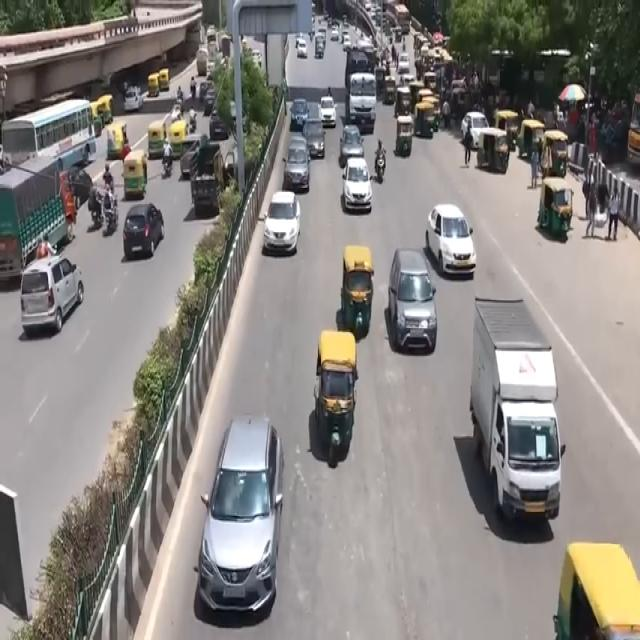BUS: (3, 99, 98, 171)
TRUCK: (468, 313, 557, 533)
